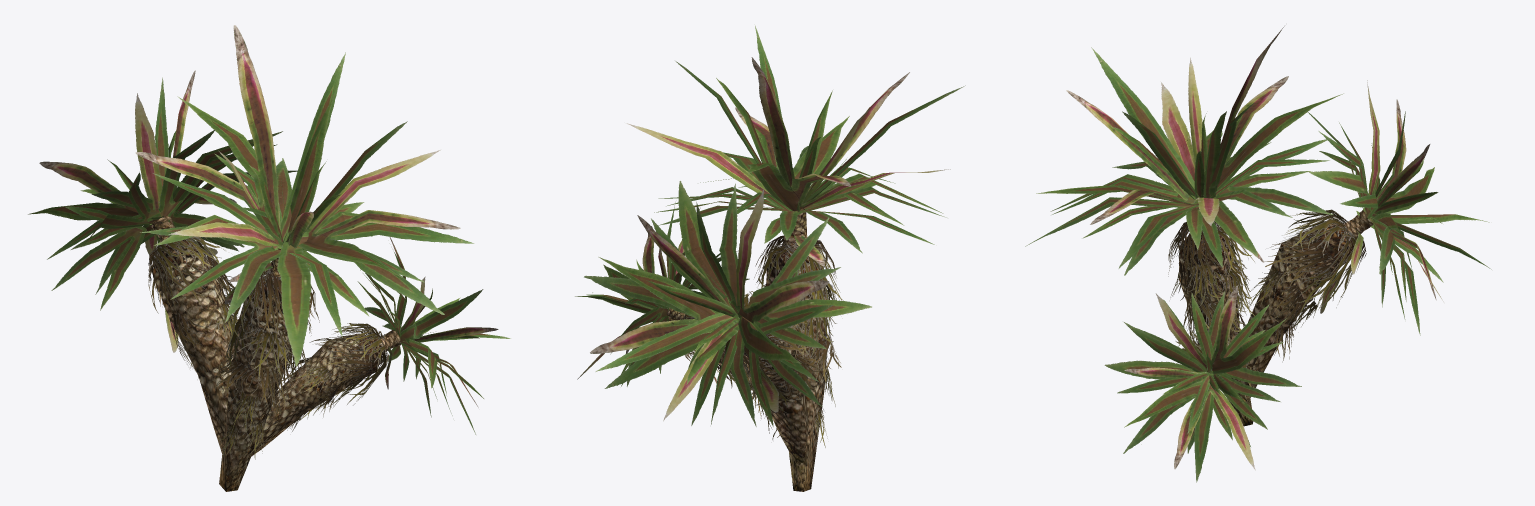
Rendered from plant2.glb.
3 views of the same model, side by side, from view 1: azimuth 30°, elevation 25°; view 2: azimuth 150°, elevation 25°; view 3: azimuth 270°, elevation 25° (orthographic). The views are drawn at different scales.
Parts seen in each view (by area): view 1: defaultobject; view 2: defaultobject; view 3: defaultobject.
Part boxes in pixels (x1=…): defaultobject: x1=28, y1=25, x2=510, y2=491; defaultobject: x1=575, y1=25, x2=965, y2=491; defaultobject: x1=1025, y1=26, x2=1491, y2=482.
Bounding box in the file's own units: 28.43 × 31.96 × 34.75.
Materials: 3 (3 with a texture image).
